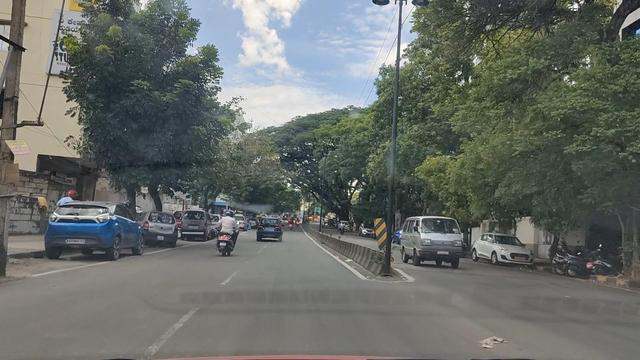LMV: (32, 205, 146, 260)
